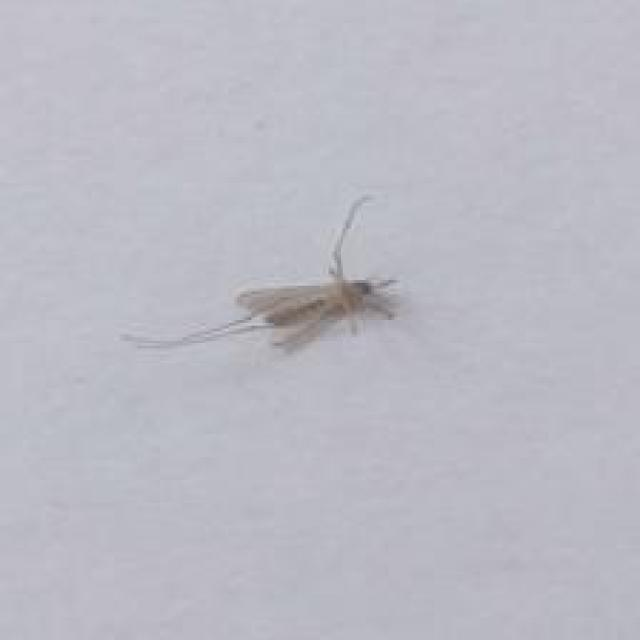Culex: (120, 192, 403, 357)
